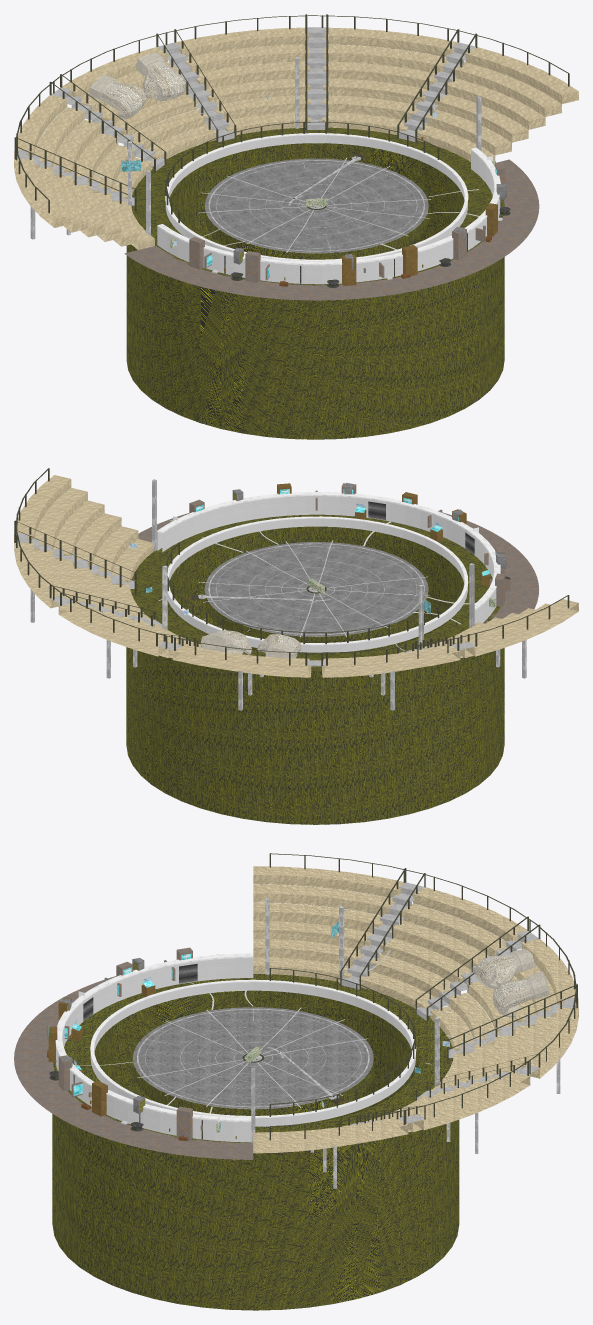
Rendered from arena.glb.
3 renders of one model, top to bottom at view 1: azimuth 30°, elevation 25°; view 2: azimuth 150°, elevation 25°; view 3: azimuth 270°, elevation 25°, orthographic. The views are drawn at different scales.
Parts seen in each view (by area): view 1: Floor_OuterRing, HDD_PlatterTop, Floor_FrontApron, Wall_Front, Arena_Barrier, Bleacher_T05_S02, Bleacher_T05_S00, Bleacher_T05_S01, Bleacher_T04_S00, Bleacher_T04_S01, Bleacher_T04_S02, Arena_Barrier_Stripe (+41 smaller); view 2: Floor_OuterRing, HDD_PlatterTop, Wall_Front, Arena_Barrier, Floor_FrontApron, Bleacher_T05_S04, Bleacher_T05_S03, Bleacher_T05_S05, Wall_Front_Stripe, Bleacher_T05_S02, Arena_Barrier_Stripe, HDD_UnderBase (+18 smaller); view 3: Floor_OuterRing, HDD_PlatterTop, Floor_FrontApron, Wall_Front, Arena_Barrier, Bleacher_T05_S00, Bleacher_T05_S05, Bleacher_T04_S05, Arena_Barrier_Stripe, HDD_UnderBase, Bleacher_T05_S01, Bleacher_T05_S04 (+27 smaller).
Part boxes in pixels (<box>): Floor_OuterRing: <box>126,127,504,439</box>; HDD_PlatterTop: <box>205,158,428,253</box>; Floor_FrontApron: <box>124,159,539,300</box>; Wall_Front: <box>157,150,500,284</box>; Arena_Barrier: <box>165,135,467,258</box>; Bleacher_T05_S02: <box>176,27,308,57</box>; Bleacher_T05_S00: <box>465,47,578,104</box>; Bleacher_T05_S01: <box>324,27,457,57</box>; Bleacher_T04_S00: <box>455,62,561,116</box>; Bleacher_T04_S01: <box>324,44,448,73</box>; Bleacher_T04_S02: <box>185,44,309,73</box>; Arena_Barrier_Stripe: <box>165,133,468,261</box>; Floor_OuterRing: <box>126,514,504,824</box>; HDD_PlatterTop: <box>204,542,428,636</box>; Wall_Front: <box>157,496,496,623</box>; Arena_Barrier: <box>167,518,467,652</box>; Floor_FrontApron: <box>138,512,538,623</box>; Bleacher_T05_S04: <box>324,644,460,675</box>; Bleacher_T05_S03: <box>172,644,308,675</box>; Bleacher_T05_S05: <box>465,599,578,656</box>; Wall_Front_Stripe: <box>157,492,500,609</box>; Bleacher_T05_S02: <box>58,602,168,656</box>; Arena_Barrier_Stripe: <box>167,516,468,645</box>; HDD_UnderBase: <box>205,593,428,654</box>; Floor_OuterRing: <box>52,974,459,1310</box>; HDD_PlatterTop: <box>133,1007,373,1108</box>; Floor_FrontApron: <box>14,976,253,1159</box>; Wall_Front: <box>56,957,253,1142</box>; Arena_Barrier: <box>90,982,415,1126</box>; Bleacher_T05_S00: <box>253,1117,408,1150</box>; Bleacher_T05_S05: <box>253,866,403,898</box>; Bleacher_T04_S05: <box>253,884,394,915</box>; Arena_Barrier_Stripe: <box>90,979,416,1118</box>; HDD_UnderBase: <box>133,1062,373,1127</box>; Bleacher_T05_S01: <box>413,1072,530,1130</box>; Bleacher_T05_S04: <box>413,887,527,941</box>.
Size of the model in its own units: 40.82 by 19.12 by 35.41.
32 materials, 32 textured.
